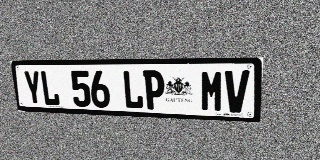5: (70, 70, 92, 107)
6: (89, 70, 111, 108)
L: (122, 70, 144, 109), (39, 70, 60, 106)
M: (201, 70, 224, 112)
P: (143, 70, 165, 110)
V: (224, 70, 250, 113)
Y: (23, 71, 43, 105)
